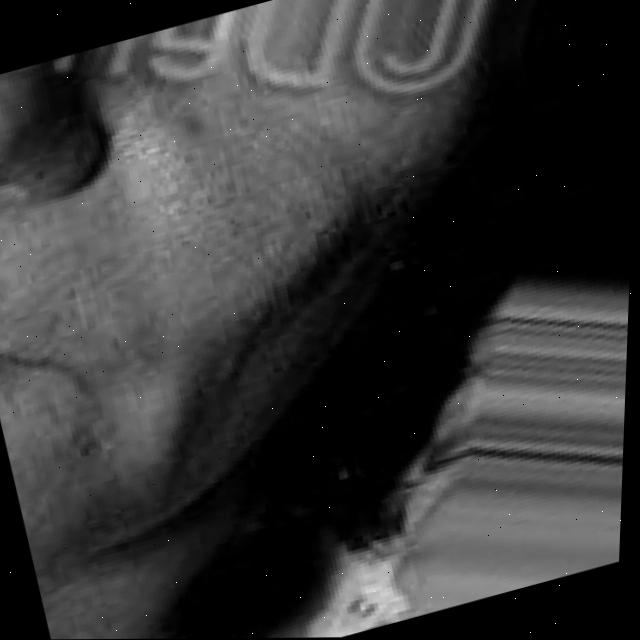Rosacea: (166, 107, 228, 158)
